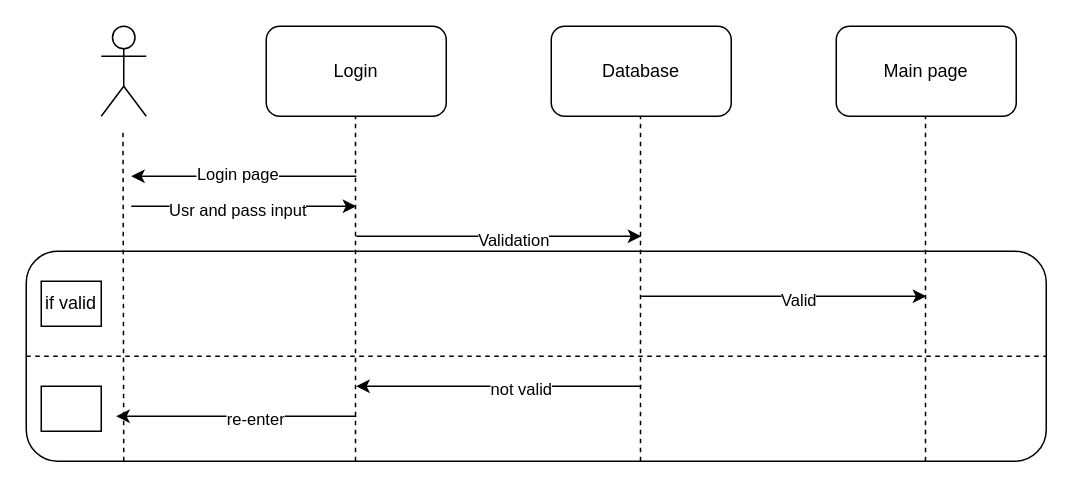
Some shapes in this 1074 by 489 pixel diagram are drawn without their labels. Each missing label, with the centre of its shape:
else: point 70,408
User: point 123,70
